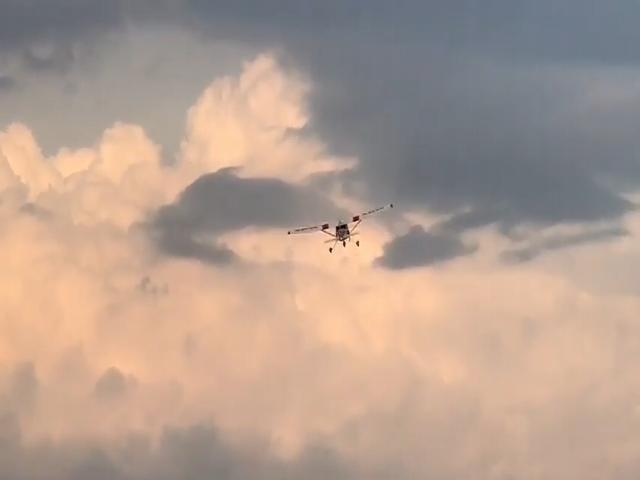plane: (287, 204, 393, 249)
